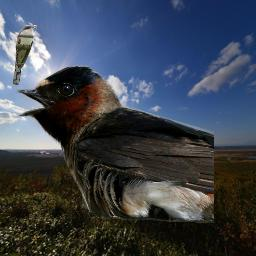Cuckoo: (13, 25, 37, 85)
Swallow: (14, 65, 214, 223)
